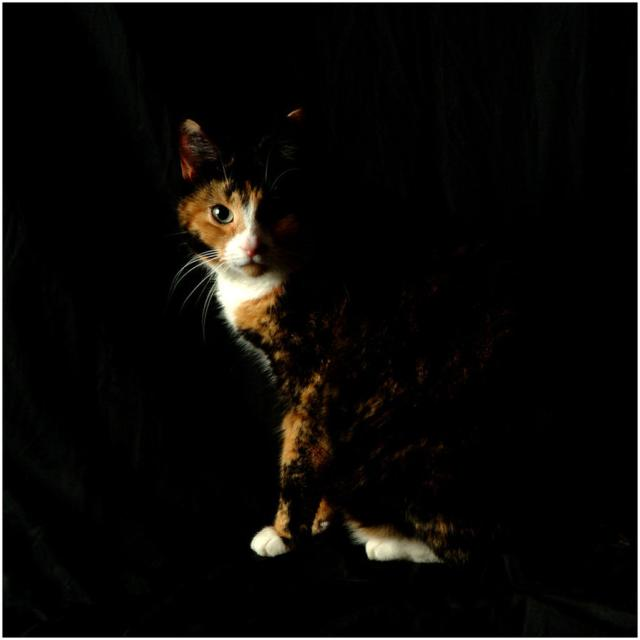Cat: (140, 100, 640, 598)
